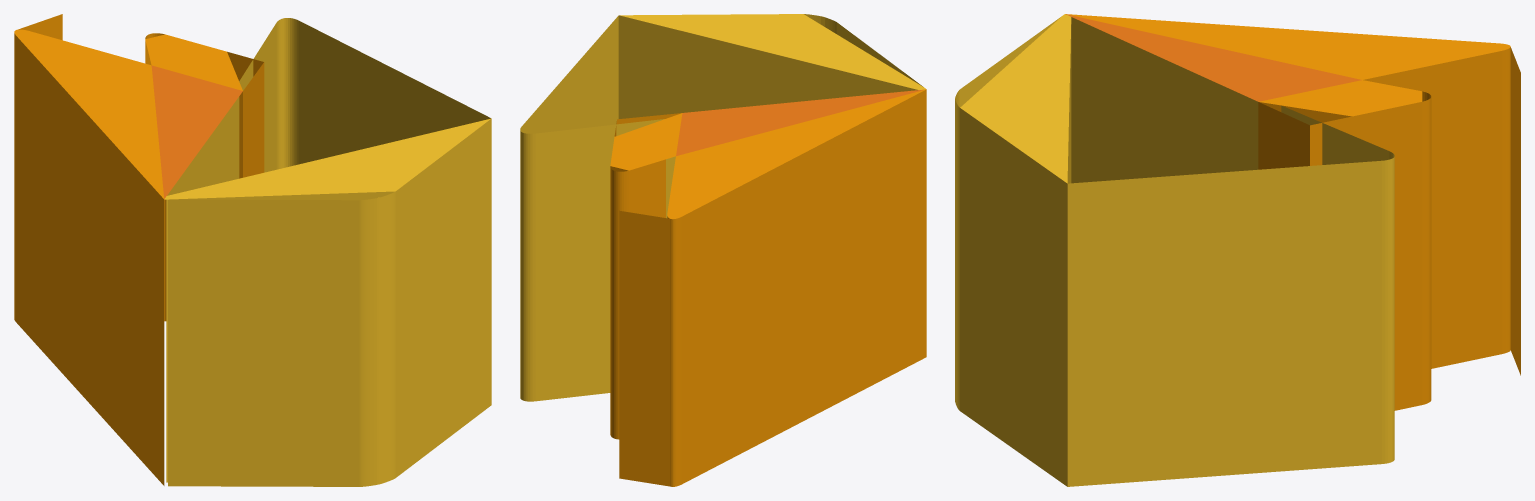
Rendered from firebase3.glb.
The picture shows the model from 3 angles, left to right: view 1: azimuth 30°, elevation 25°; view 2: azimuth 150°, elevation 25°; view 3: azimuth 270°, elevation 25°; orthographic projection. The views are drawn at different scales.
Visible parts, largest first — view 1: Curve.002, Curve.003, Curve, Curve.001; view 2: Curve.003, Curve.002, Curve, Curve.001; view 3: Curve.002, Curve.003, Curve, Curve.001.
Part boxes in pixels (bbox=[...]): Curve.002: bbox=[164, 18, 491, 486]; Curve.003: bbox=[14, 14, 164, 485]; Curve: bbox=[145, 33, 264, 321]; Curve.001: bbox=[151, 65, 242, 198]; Curve.003: bbox=[619, 89, 926, 486]; Curve.002: bbox=[520, 14, 926, 401]; Curve: bbox=[610, 113, 682, 439]; Curve.001: bbox=[676, 89, 925, 155]; Curve.002: bbox=[955, 14, 1394, 486]; Curve.003: bbox=[1066, 14, 1520, 375]; Curve: bbox=[1258, 80, 1431, 410]; Curve.001: bbox=[1066, 14, 1361, 101].
Size of the model in its own units: 7.4 by 6.17 by 10.43.
